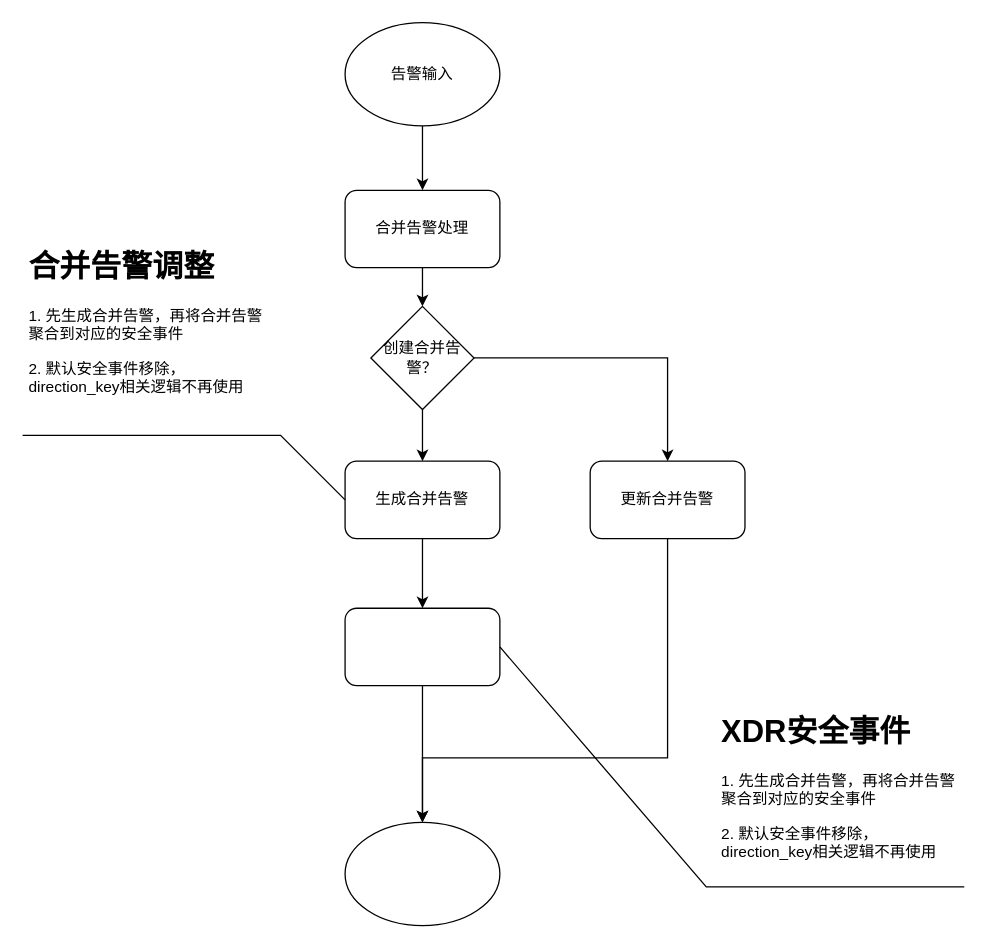
Image size: 988x948. Some labels were removed from this diagram. The shapes that lost their labels are listed below. From the top down, each one's centre as x and y in pixels, then its label:
(422,646): 安全事件聚合
(422,873): 结束
